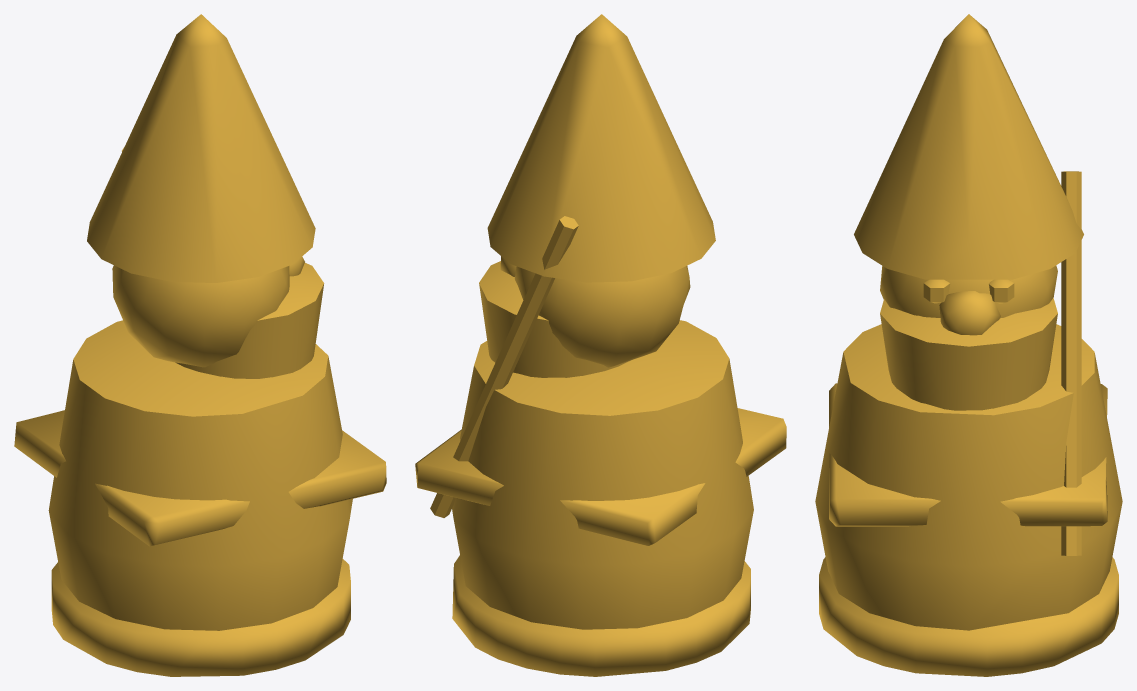
File: golden_gnome.glb
The picture shows the model from 3 angles, left to right: view 1: azimuth 30°, elevation 25°; view 2: azimuth 150°, elevation 25°; view 3: azimuth 270°, elevation 25°; orthographic projection.
Parts seen in each view (by area): view 1: golden_gnome; view 2: golden_gnome; view 3: golden_gnome.
Part boxes in pixels (left/top/right/bottom): golden_gnome: left=14, top=14, right=386, bottom=676; golden_gnome: left=415, top=14, right=786, bottom=676; golden_gnome: left=815, top=14, right=1122, bottom=676.
Size of the model in its own units: 0.24 by 0.5171 by 0.24.
1 material, 1 textured.
